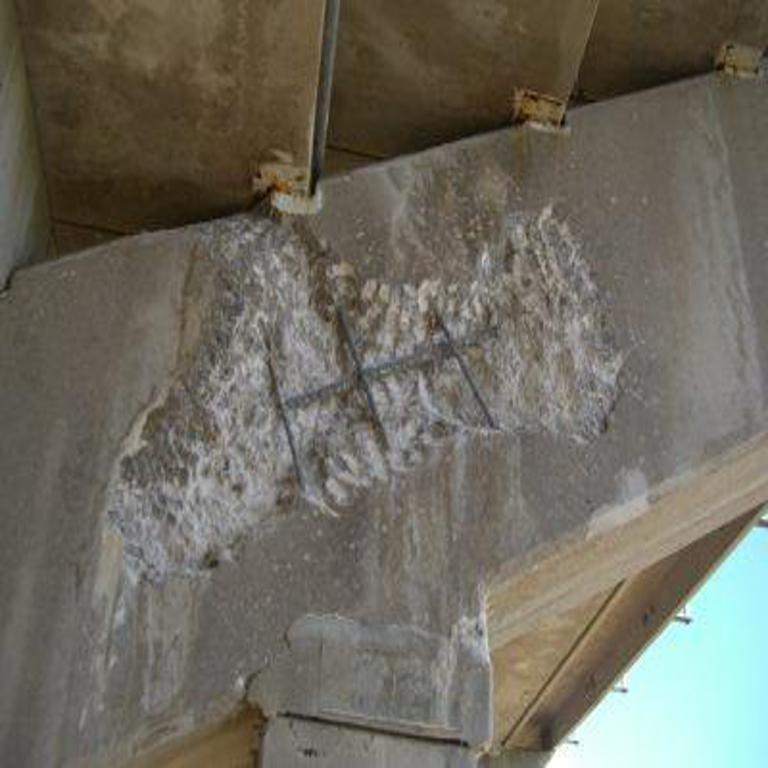exposed_rebar: (288, 309, 502, 443)
spalling: (108, 210, 621, 584)
